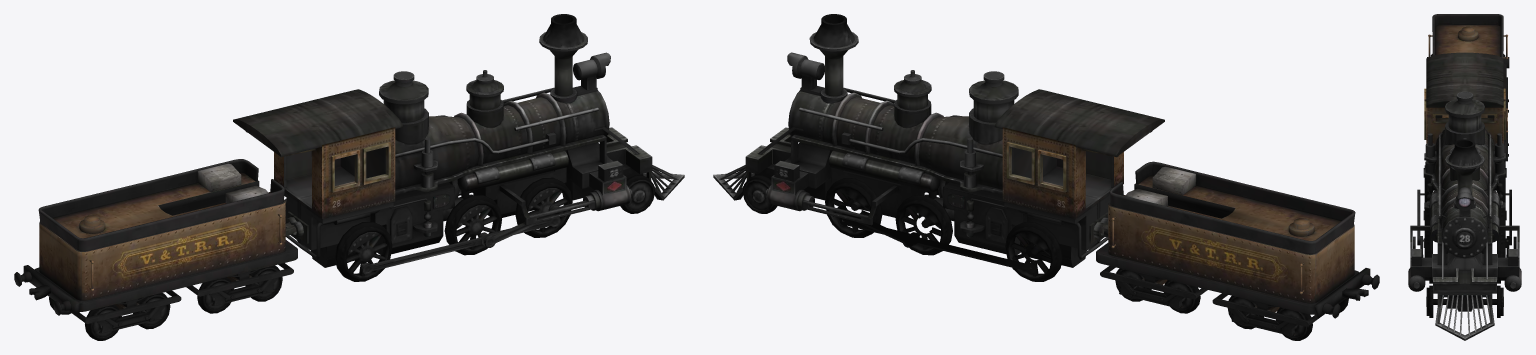
Rendered from locomotiva.glb.
3 views of the same model, side by side, from view 1: azimuth 30°, elevation 25°; view 2: azimuth 150°, elevation 25°; view 3: azimuth 270°, elevation 25° (orthographic). The views are drawn at different scales.
Parts seen in each view (by area): view 1: Cube.001_0, Cylinder_0; view 2: Cube.001_0, Cylinder_0; view 3: Cube.001_0, Cylinder_0.
Boxes of the visible parts, box(x1,y1,x2,y2) form: Cube.001_0: box(49, 14, 684, 340); Cylinder_0: box(14, 159, 297, 333); Cube.001_0: box(713, 14, 1348, 340); Cylinder_0: box(1096, 161, 1379, 336); Cube.001_0: box(1408, 52, 1521, 340); Cylinder_0: box(1427, 14, 1509, 165).
Bounding box in the file's own units: 14.63 × 4.12 × 2.76.
2 materials, 2 textured.
